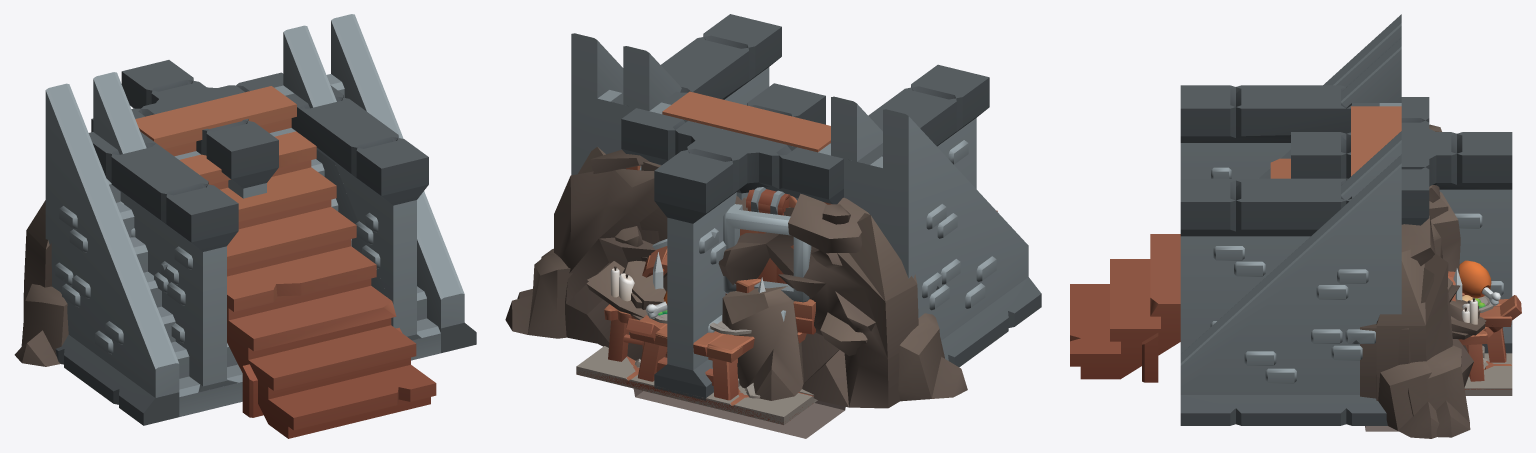
File: kit_dungeon.glb
3 views of the same model, side by side, from view 1: azimuth 30°, elevation 25°; view 2: azimuth 150°, elevation 25°; view 3: azimuth 270°, elevation 25° (orthographic). The views are drawn at different scales.
Visible parts, largest first — view 1: stairs_wood, stairs_wide, stairs_walled, stairs, wall_crossing, rubble_large, wall_Tsplit; view 2: rubble_large, stairs_wide, wall_crossing, rubble_half, stairs_walled, stairs, stairs_wood, box_stacked, wall_shelves, floor_tile_large_rocks, floor_tile_grate, table_long_decorated_A (+8 smaller); view 3: stairs_wide, stairs_walled, wall_crossing, stairs_wood, rubble_half, rubble_large, stairs, table_long_decorated_A, bed_decorated, floor_tile_large_rocks, table_long_broken, table_long.
Boxes of the visible parts, x1,y1,x2,y2 form: stairs_wood: (135, 86, 436, 438); stairs_wide: (45, 14, 476, 425); stairs_walled: (88, 85, 428, 392); stairs: (93, 25, 393, 377); wall_crossing: (91, 60, 283, 198); rubble_large: (14, 200, 68, 366); wall_Tsplit: (143, 114, 278, 198); rubble_large: (517, 193, 967, 408); stairs_wide: (571, 33, 1041, 367); wall_crossing: (622, 83, 843, 400); rubble_half: (505, 146, 665, 360); stairs_walled: (610, 14, 989, 188); stairs: (623, 46, 882, 161); stairs_wood: (662, 91, 997, 211); box_stacked: (666, 187, 811, 355); wall_shelves: (621, 119, 832, 204); floor_tile_large_rocks: (576, 346, 813, 424); floor_tile_grate: (633, 388, 845, 438); table_long_decorated_A: (630, 290, 751, 400); stairs_wide: (1180, 14, 1401, 425); stairs_walled: (1180, 85, 1379, 353); wall_crossing: (1291, 97, 1512, 353); stairs_wood: (1070, 106, 1401, 382); rubble_half: (1376, 198, 1485, 437); rubble_large: (1360, 124, 1486, 438); stairs: (1259, 37, 1401, 200); table_long_decorated_A: (1459, 260, 1511, 362); bed_decorated: (1459, 297, 1487, 381); floor_tile_large_rocks: (1464, 353, 1512, 389); table_long_broken: (1462, 293, 1521, 338); table_long: (1479, 306, 1511, 349).
Bounding box in the file's own units: 8.13 × 6.3 × 8.18.
Materials: 1 (1 with a texture image).
